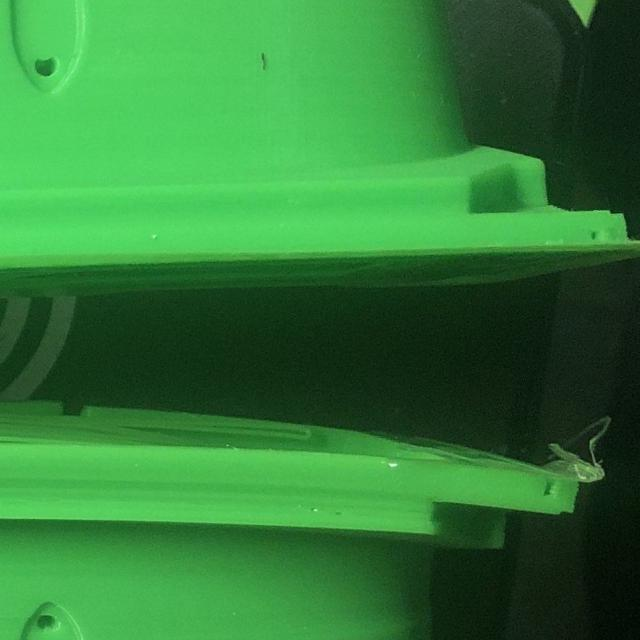warping: (369, 439, 579, 509)
